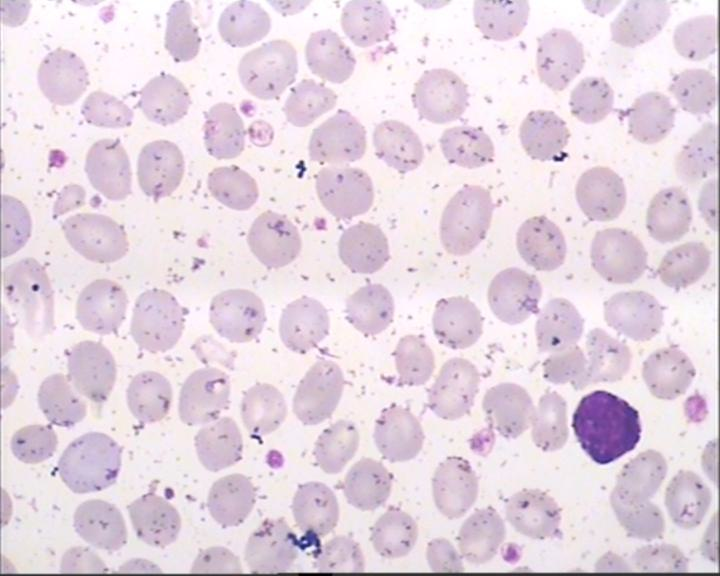baso: (569, 385, 645, 469)
